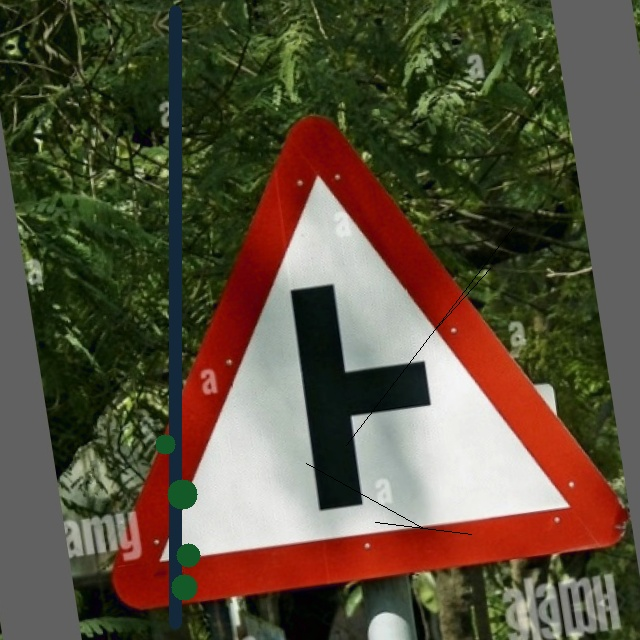Side_Road_Right: (70, 65, 612, 612)
